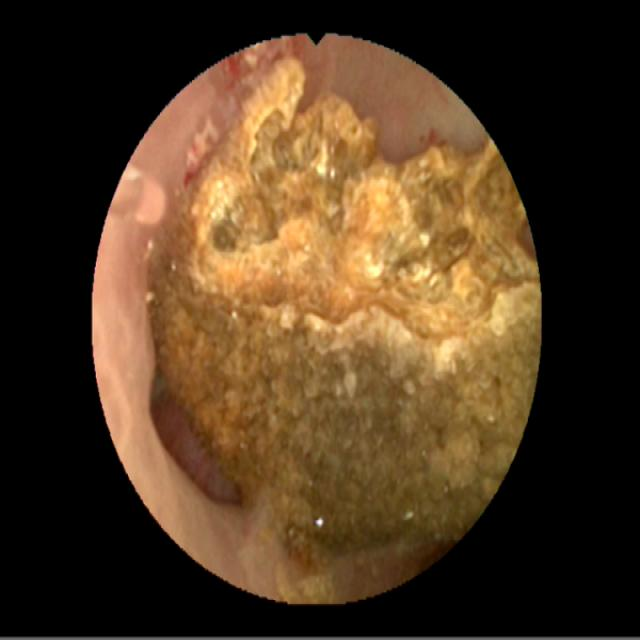stone: (151, 60, 537, 566)
